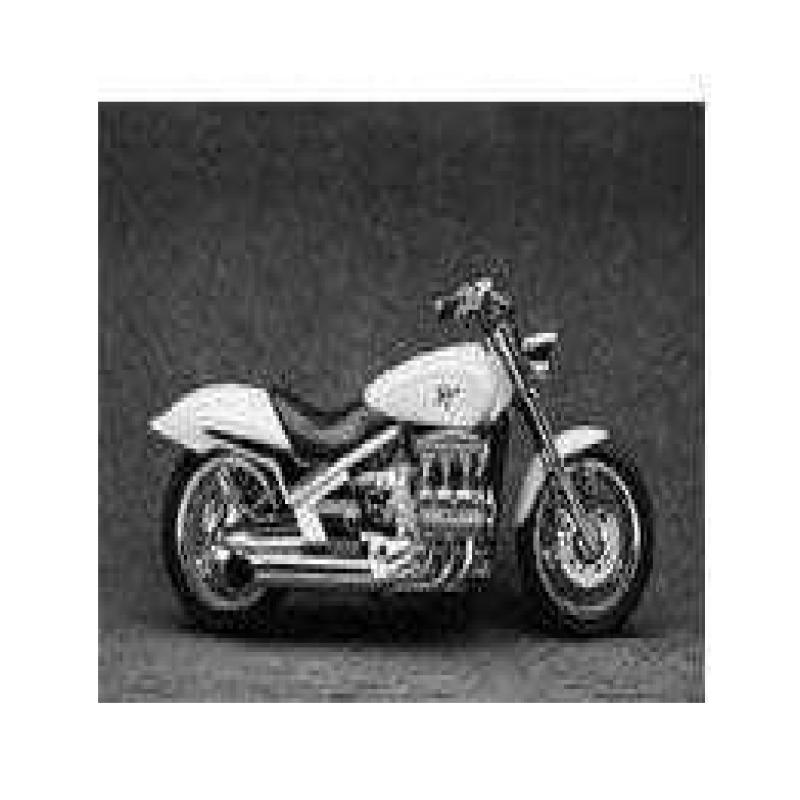bike: (116, 244, 677, 628)
